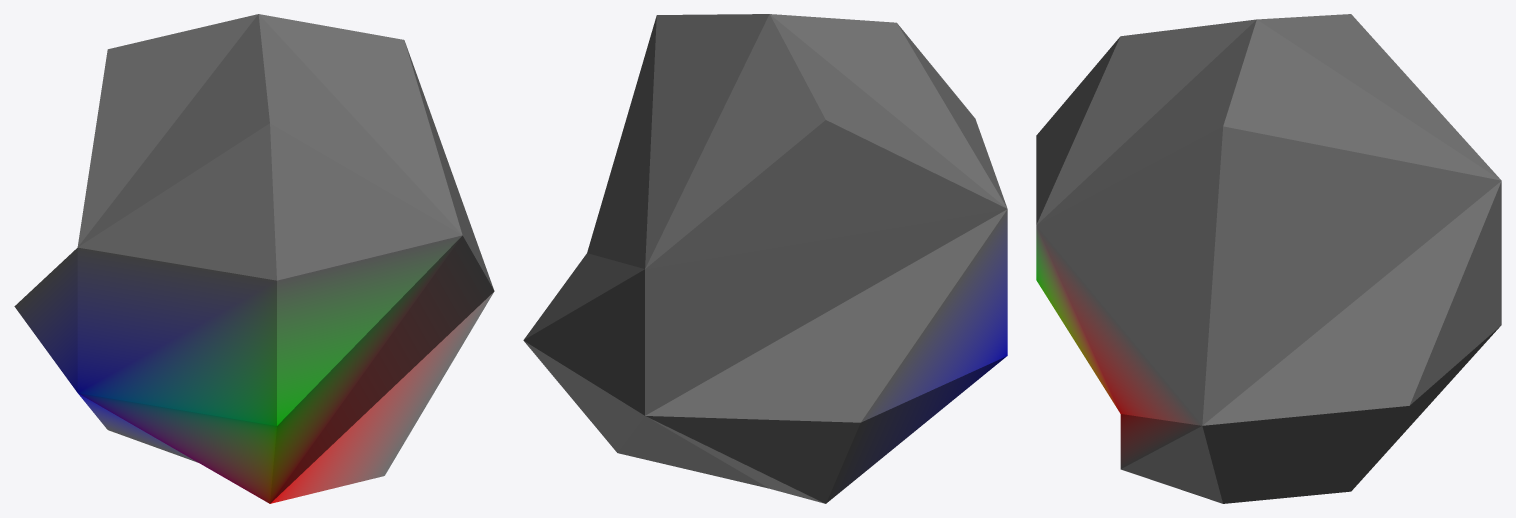
Rendered from gate_cleaning_conquest_30.obj.
3 views of the same model, side by side, from view 1: azimuth 30°, elevation 25°; view 2: azimuth 150°, elevation 25°; view 3: azimuth 270°, elevation 25° (orthographic).
Bounding box in the file's own units: 1.85 × 2 × 1.81.
